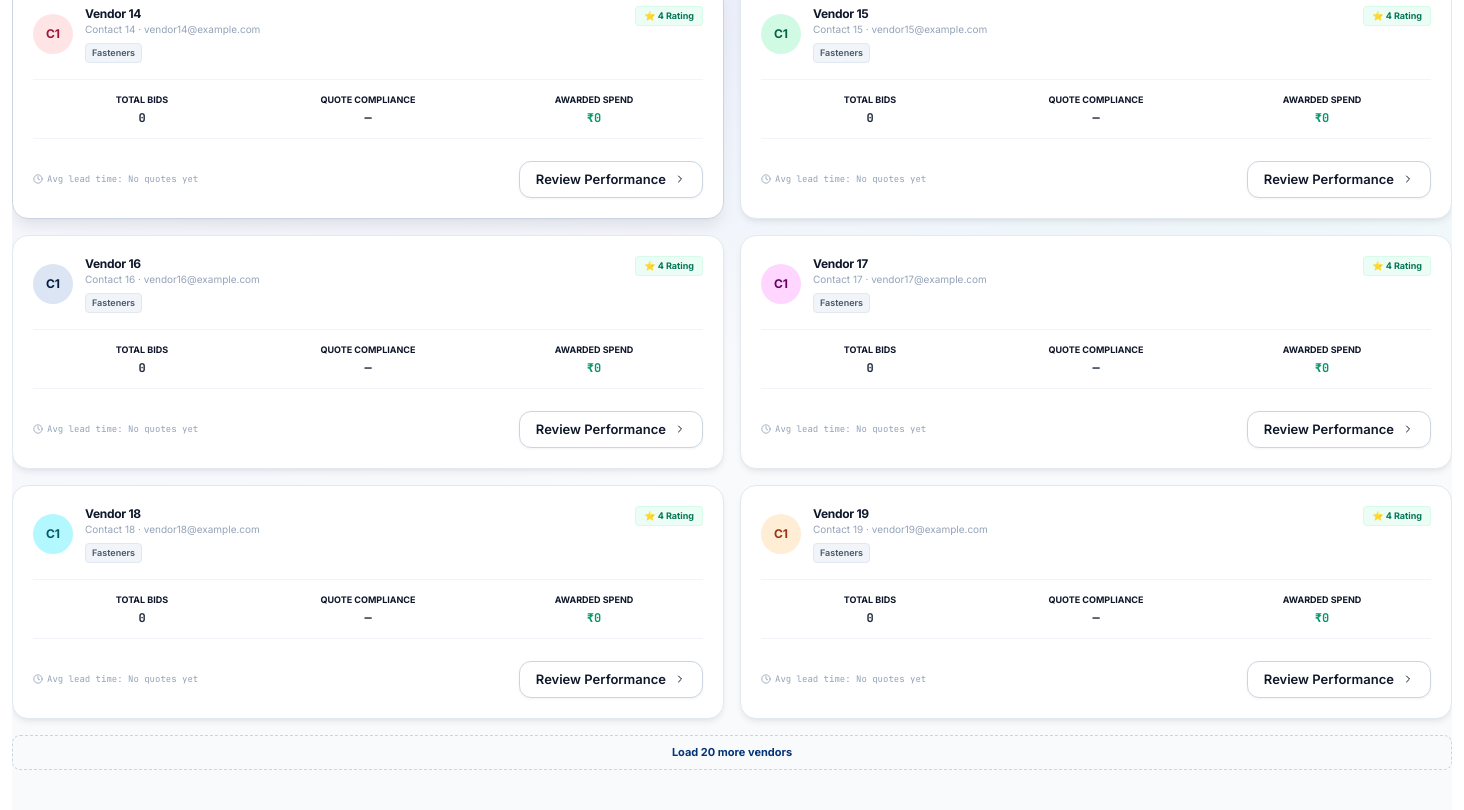
VendorConsole — pagination over a large vendor roster › surfaces an error and stops the loading-more spinner when a "Load More" fetch fails
(page scrolled)
What coordinates should you click on to do the following:
click the button with test id "load-more-vendor-cards"
I would click on:
 (732, 752)
Its box is left=12, top=735, right=1452, bottom=770.
(page scrolled)
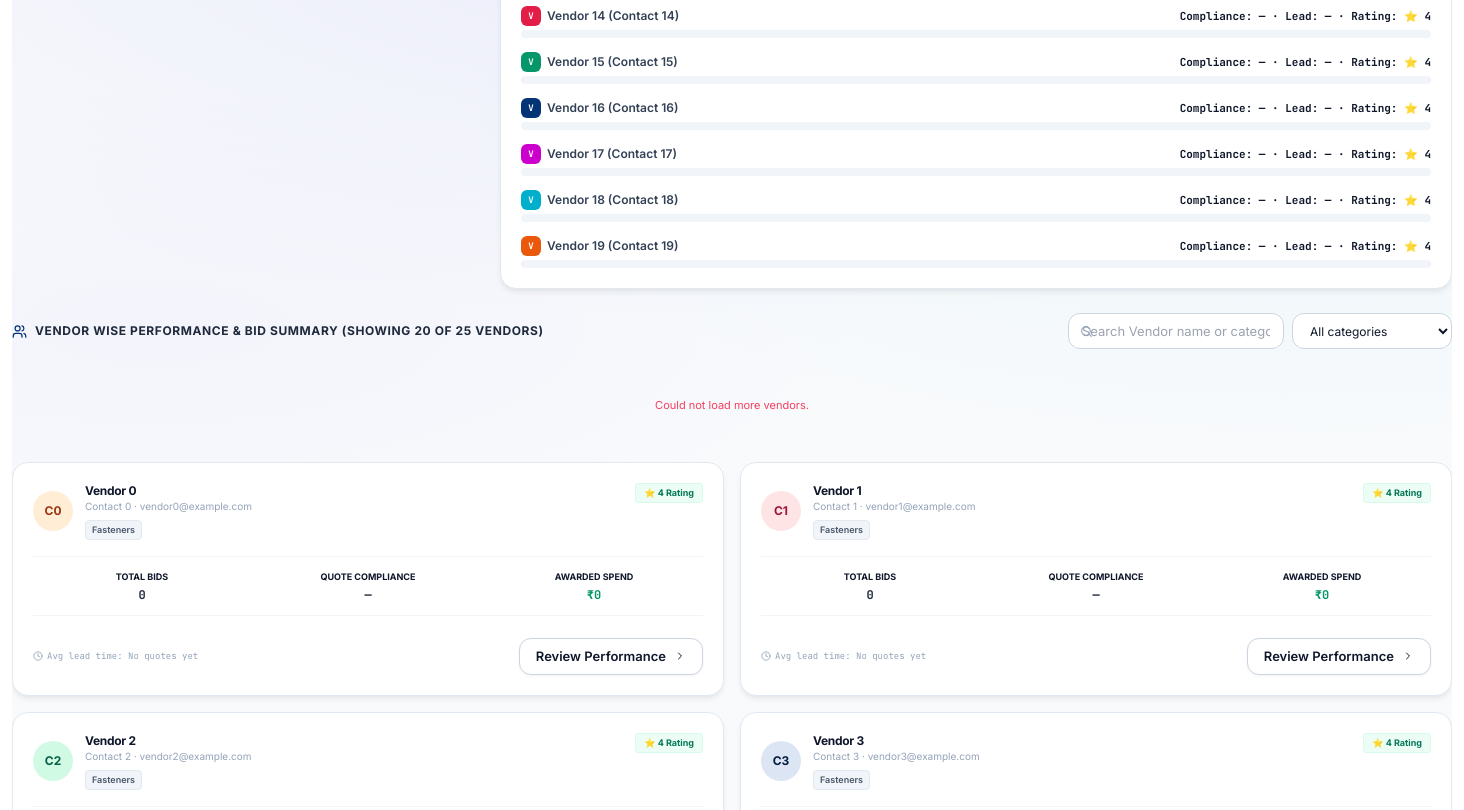
Check: the text "Could not load more vendors." is shown, box left=655, top=398, right=809, bottom=412
